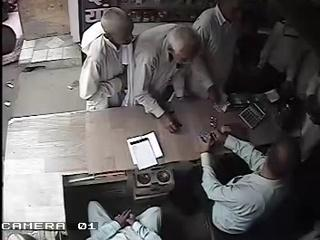Normal: (200, 126, 301, 239), (120, 23, 202, 134), (190, 0, 270, 106), (85, 200, 163, 240)
shoplifting: (78, 7, 135, 111)
